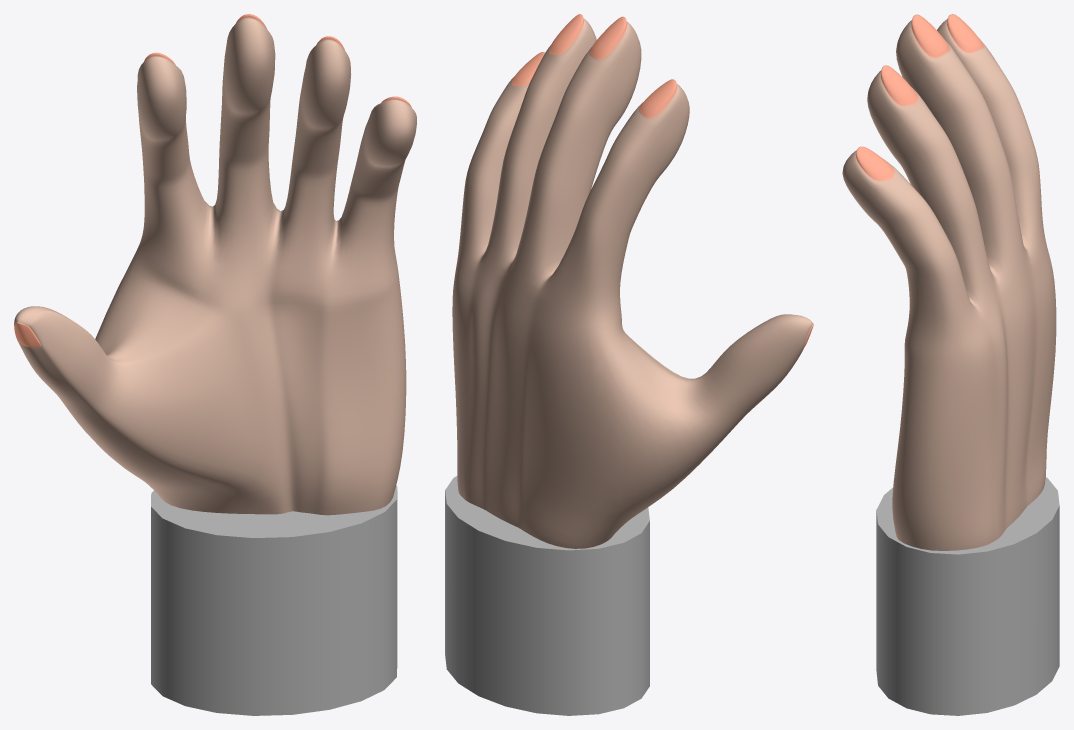
File: LeftHand.fbx
3 views of the same model, side by side, from view 1: azimuth 30°, elevation 25°; view 2: azimuth 150°, elevation 25°; view 3: azimuth 270°, elevation 25° (orthographic). The views are drawn at different scales.
Parts seen in each view (by area): view 1: LeftHand:pCube8; view 2: LeftHand:pCube8; view 3: LeftHand:pCube8.
Part boxes in pixels (x1,y1,x2,y2): LeftHand:pCube8: (14,14,416,715); LeftHand:pCube8: (445,14,813,715); LeftHand:pCube8: (842,14,1059,715).
Bounding box in the file's own units: 1.47 × 2.56 × 0.8001.
